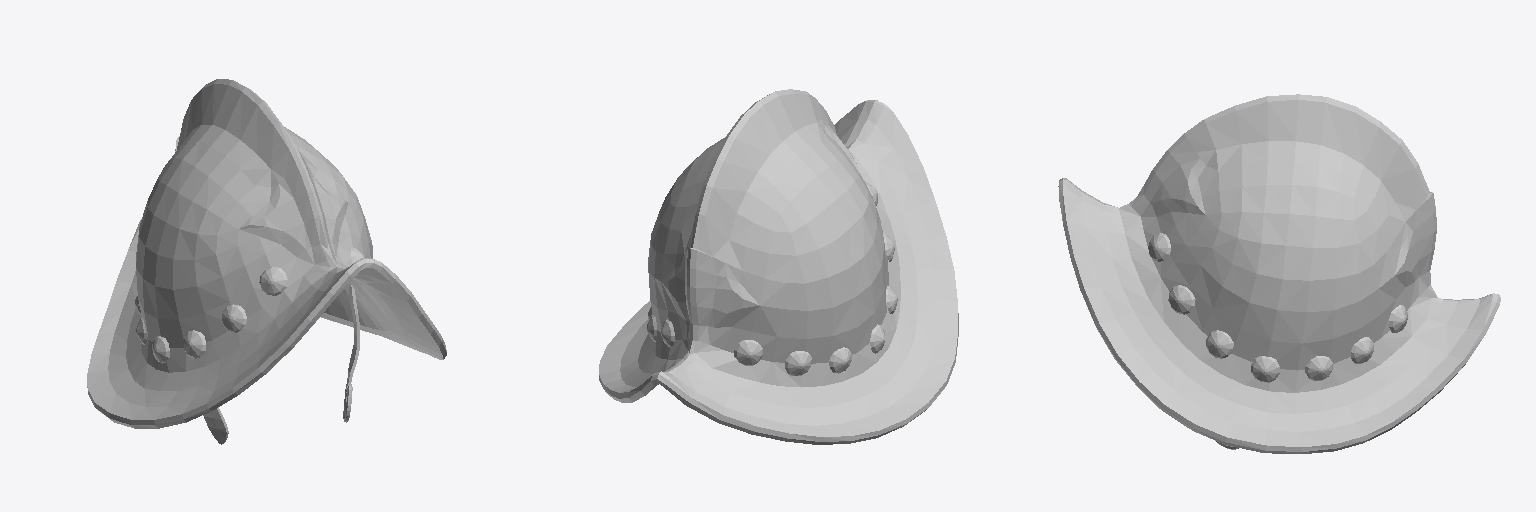
The model's file is helmet.obj.
The picture shows the model from 3 angles: view 1: azimuth 30°, elevation 25°; view 2: azimuth 150°, elevation 25°; view 3: azimuth 270°, elevation 25°; orthographic projection.
Visible parts, largest first — view 1: Mesh_lod0_Mesh.002; view 2: Mesh_lod0_Mesh.002; view 3: Mesh_lod0_Mesh.002.
Boxes of the visible parts, x1=… form: Mesh_lod0_Mesh.002: x1=87, y1=79, x2=446, y2=444; Mesh_lod0_Mesh.002: x1=599, y1=89, x2=958, y2=444; Mesh_lod0_Mesh.002: x1=1058, y1=94, x2=1500, y2=453.
Bounding box in the file's own units: 31.33 × 31.51 × 39.13.